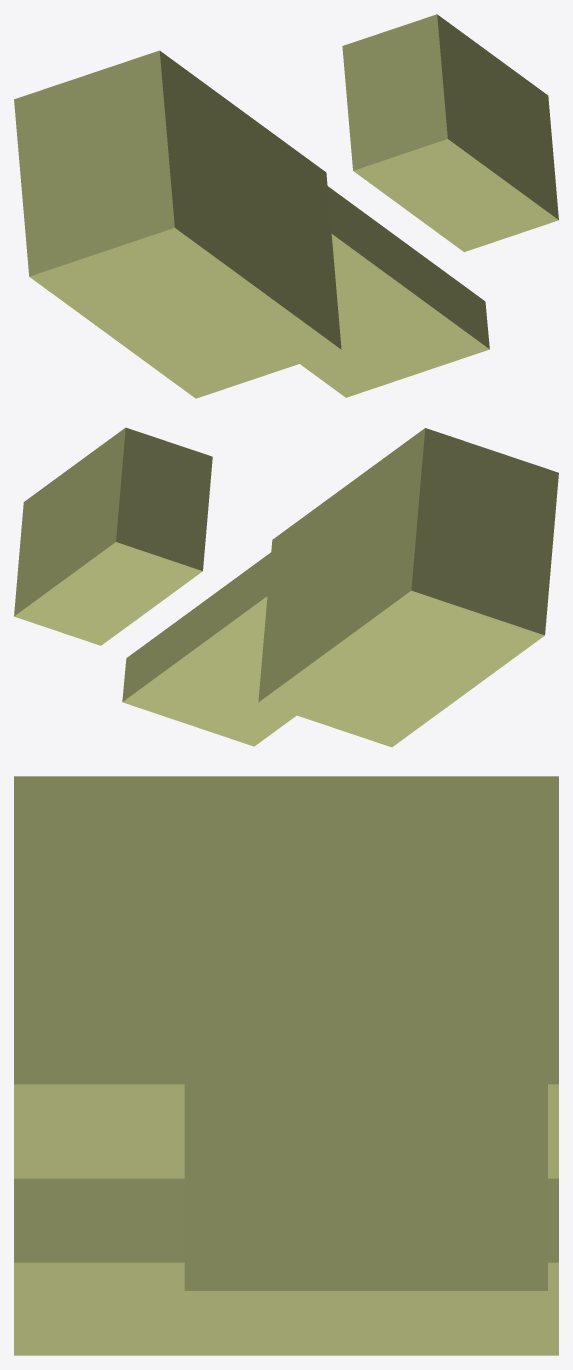
3 renders of one model, top to bottom at view 1: azimuth 30°, elevation 25°; view 2: azimuth 150°, elevation 25°; view 3: azimuth 270°, elevation 25°, orthographic. The views are drawn at different scales.
Visible parts, largest first — view 1: 0_2_3_3_3_1_0_2_0_3_1; view 2: 0_2_3_3_3_1_0_2_0_3_1; view 3: 0_2_3_3_3_1_0_2_0_3_1.
Part boxes in pixels (x1,y1,x2,y2): 0_2_3_3_3_1_0_2_0_3_1: (14,14,558,398); 0_2_3_3_3_1_0_2_0_3_1: (14,427,558,747); 0_2_3_3_3_1_0_2_0_3_1: (14,776,558,1355).
Bounding box in the file's own units: 13.42 × 6.86 × 9.
